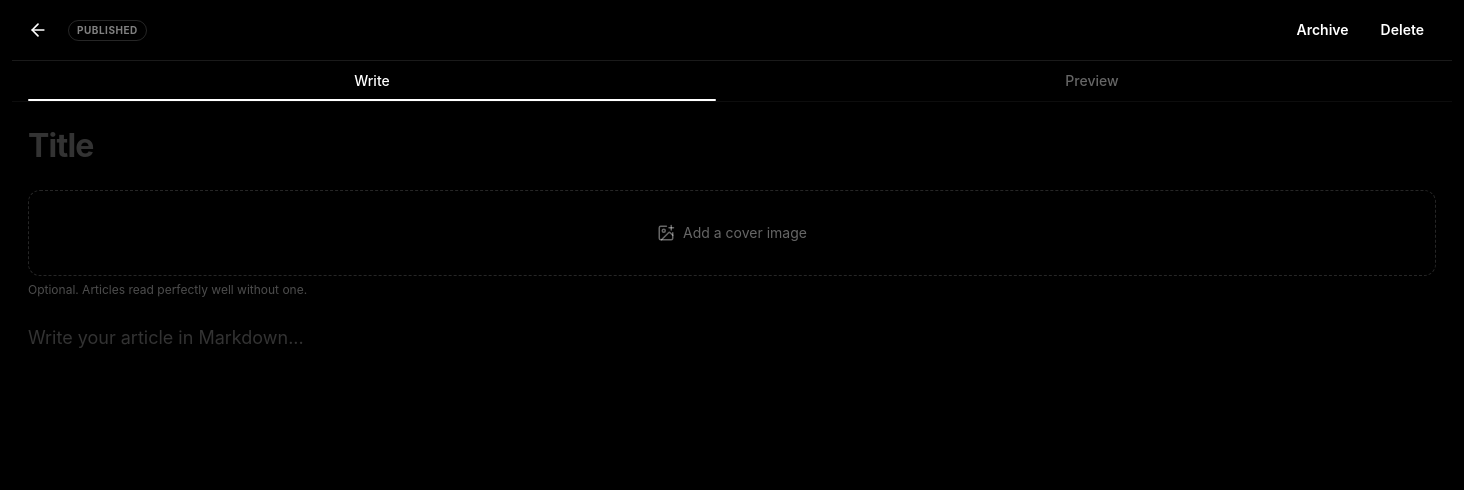
Test case: ArticleEditorPage › an article that is already published › confirms before deleting, since it cannot be undone
Click the button "Delete": (1402, 30) [1369, 14, 1436, 46]
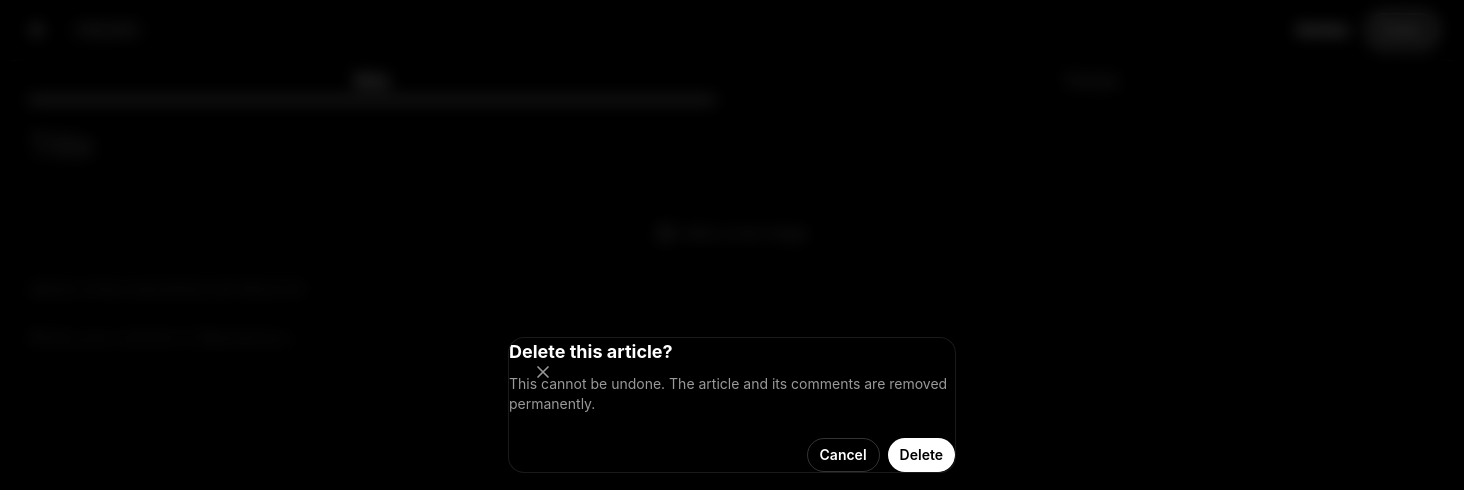
Now the heading "Delete this article?" is shown, box [509, 341, 673, 362]
